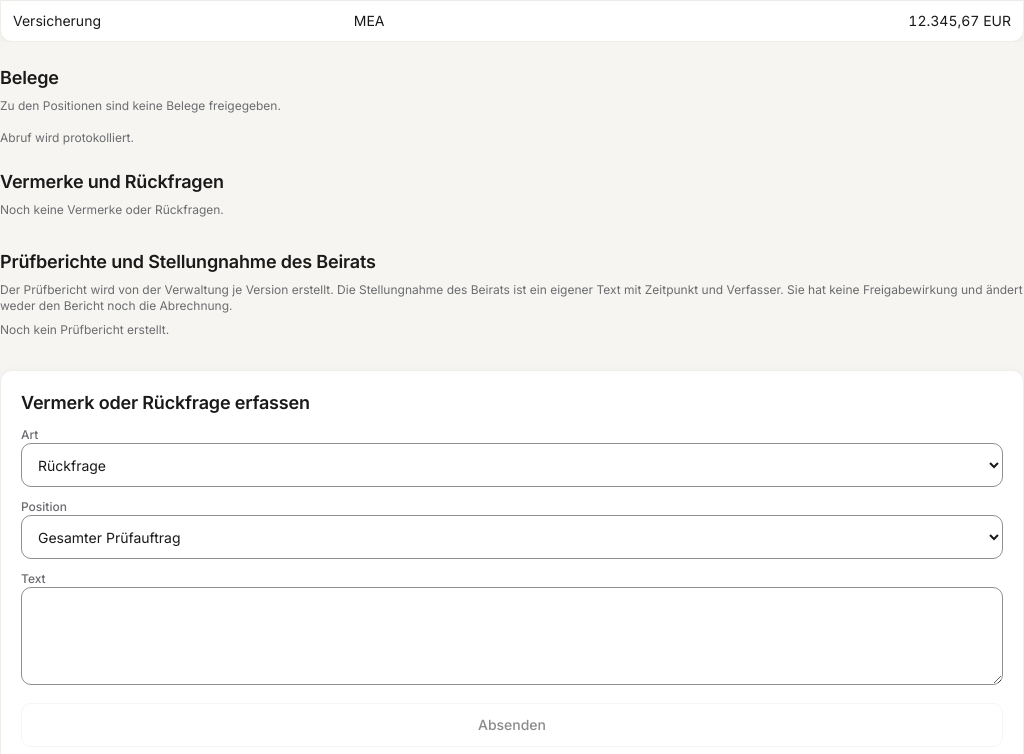
BoardEngagementDetail states › shows the API error of a note as alert
(page scrolled)
In the text box labelled "Text": (512,636) [21,587,1003,685], type "Rückfrage"
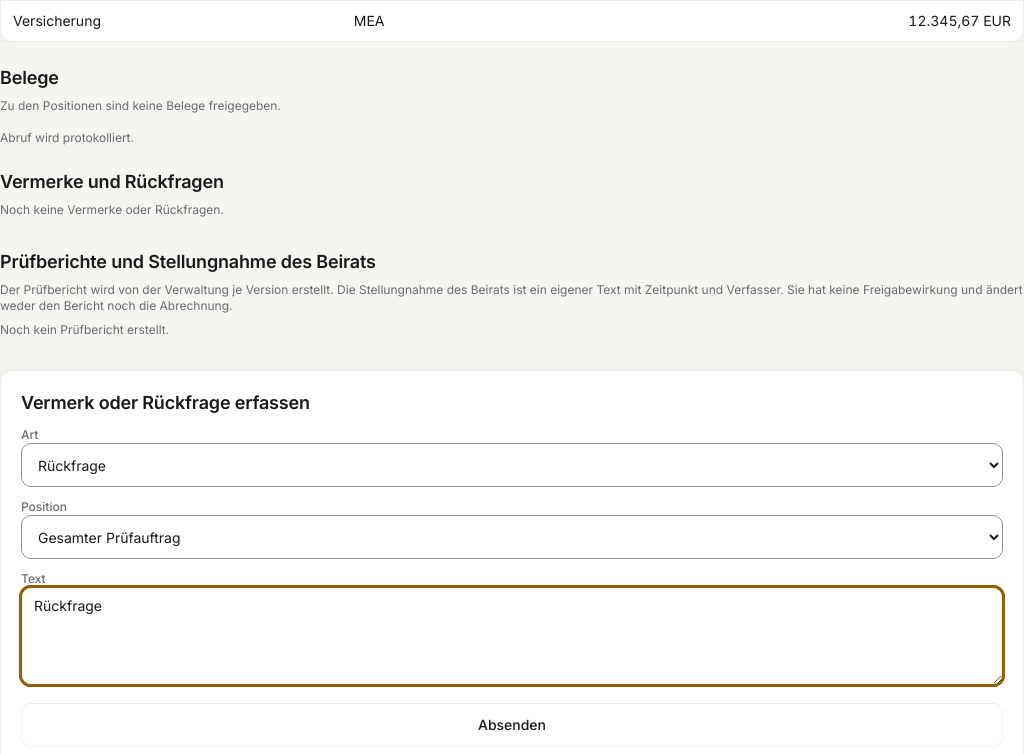
Click the button "Absenden": (512,725) [21,703,1003,747]
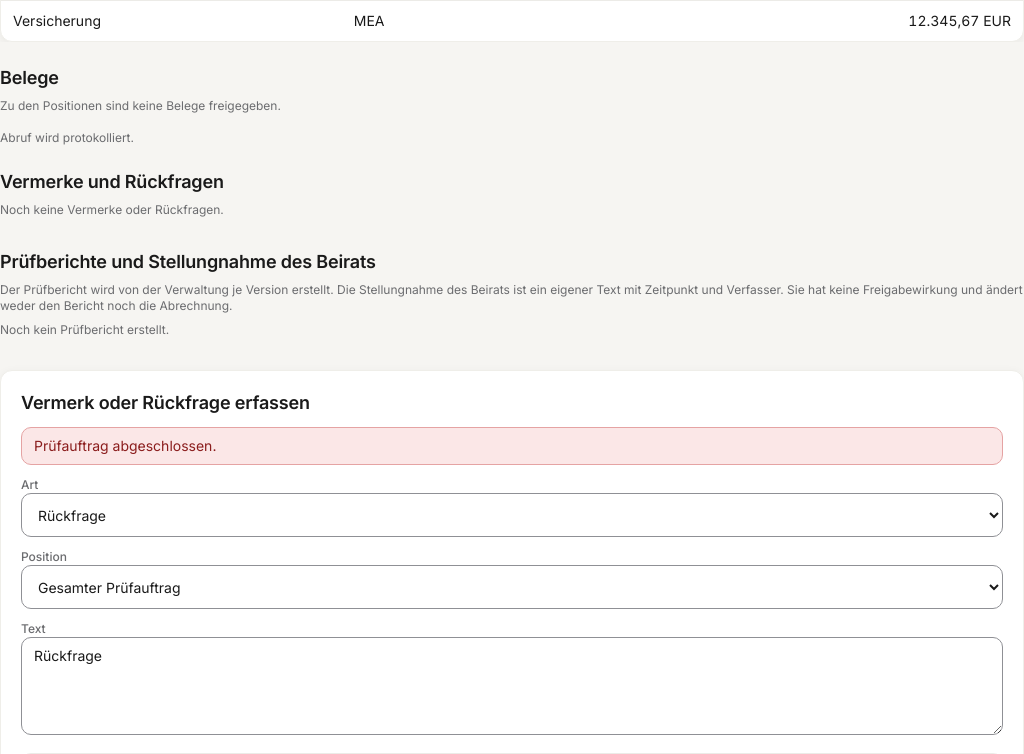
Expected: the message reads "Prüfauftrag abgeschlossen.", [34,437,216,454]
